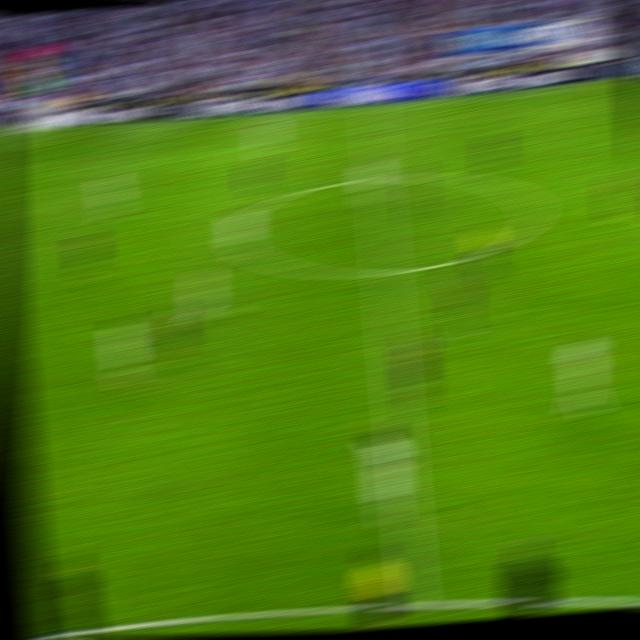halfcircle_bottom: (372, 258, 400, 284)
halfcircle_top: (366, 169, 391, 185)
midline_bottom_intersection: (398, 588, 430, 610)
midline_top_intersection: (361, 104, 385, 115)
